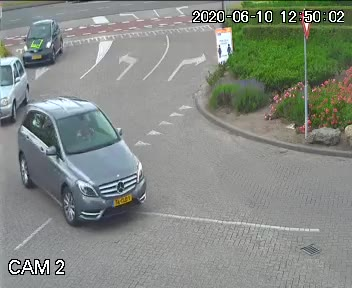car: (9, 96, 158, 231), (21, 12, 64, 62), (0, 53, 29, 123)
